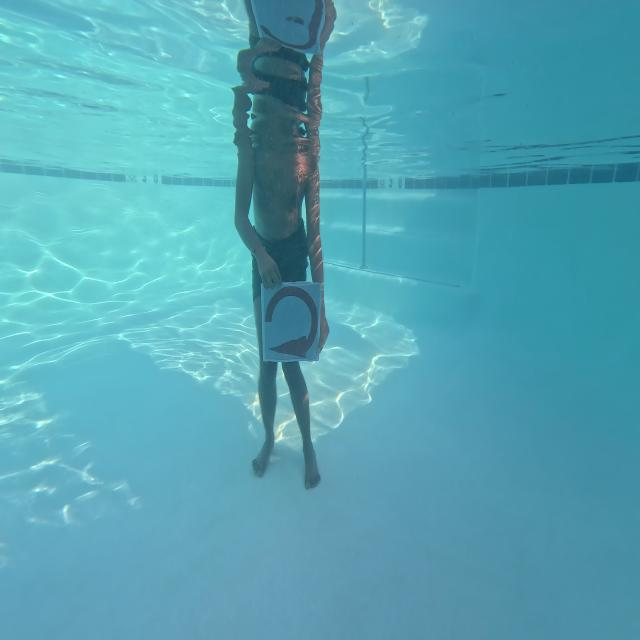red_side: (260, 280, 322, 364)
